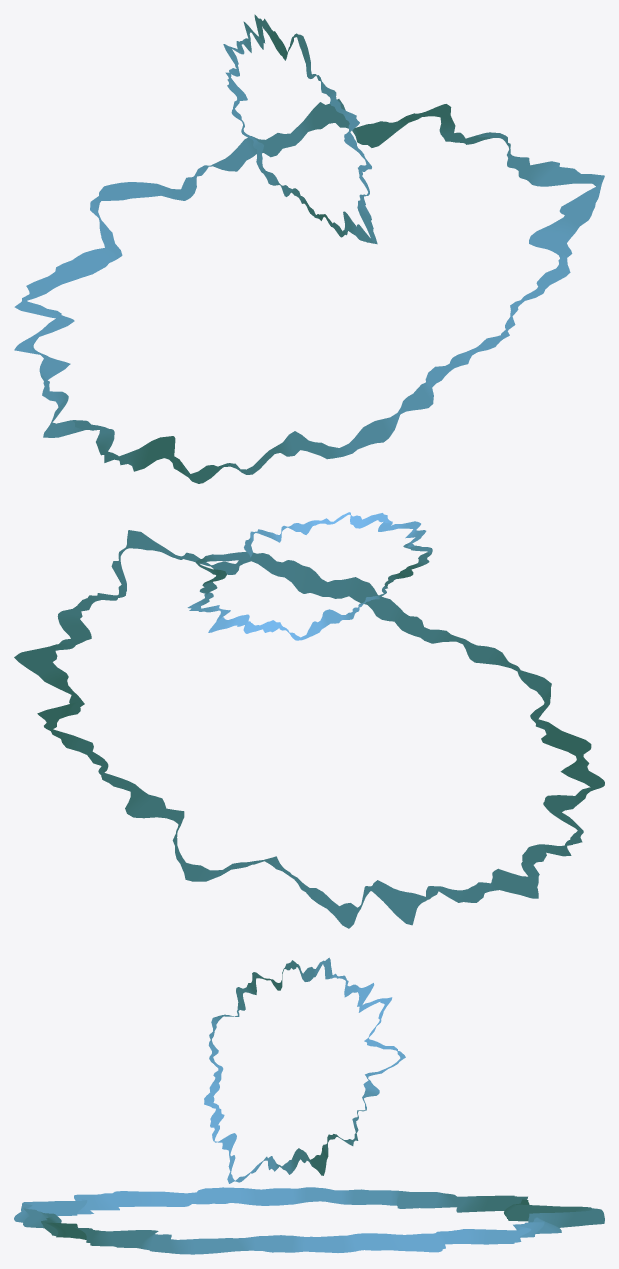
The model's file is ringsmaj.glb.
3 renders of one model, top to bottom at view 1: azimuth 30°, elevation 25°; view 2: azimuth 150°, elevation 25°; view 3: azimuth 270°, elevation 25°, orthographic. The views are drawn at different scales.
Parts seen in each view (by area): view 1: Circle, Circle.001; view 2: Circle, Circle.001; view 3: Circle, Circle.001.
Part boxes in pixels (x1,y1,x2,y2): Circle: (14,99,604,483); Circle.001: (223,14,377,244); Circle: (14,530,604,928); Circle.001: (187,512,432,640); Circle: (14,1187,604,1254); Circle.001: (204,957,405,1183).
Size of the model in its own units: 7.88 by 5.34 by 8.65.
